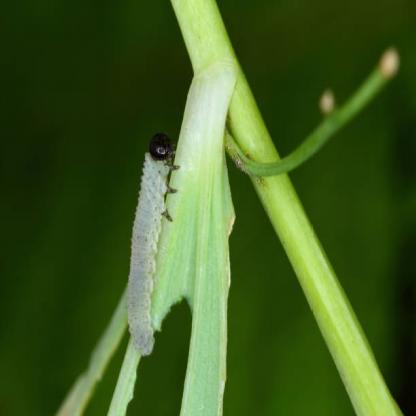sawfly: (122, 128, 176, 366)
